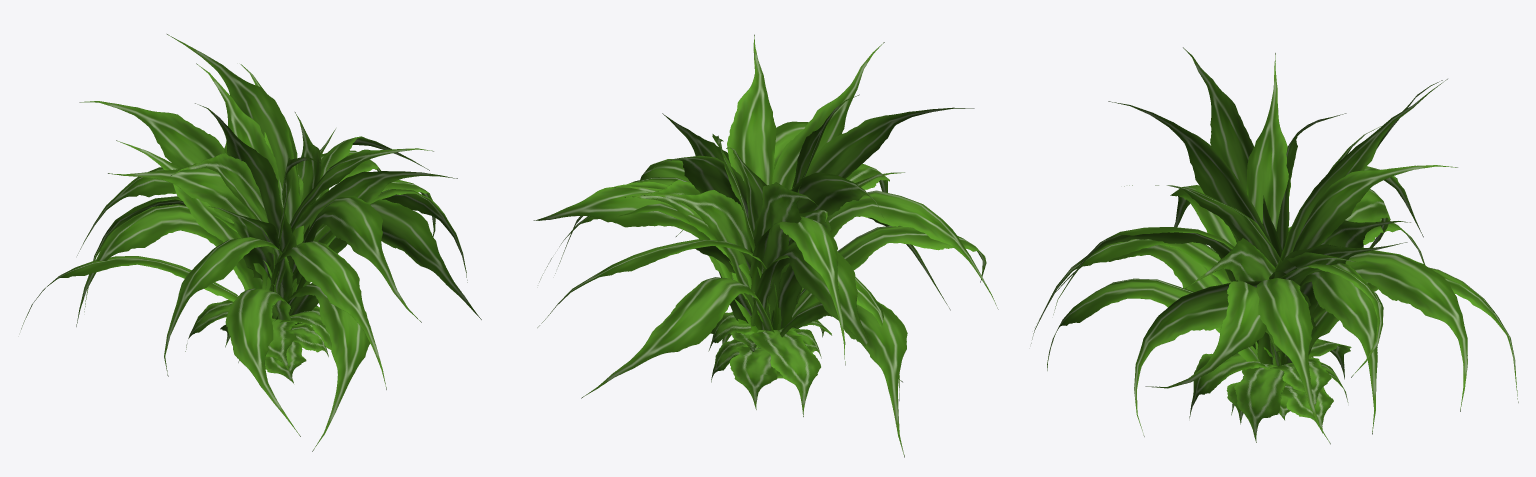
Rendered from Dracena.dae.
The picture shows the model from 3 angles, left to right: view 1: azimuth 30°, elevation 25°; view 2: azimuth 150°, elevation 25°; view 3: azimuth 270°, elevation 25°; orthographic projection. The views are drawn at different scales.
Visible parts, largest first — view 1: plant_pmat7; view 2: plant_pmat7; view 3: plant_pmat7.
Boxes of the visible parts, <box> form: plant_pmat7: <box>21,34,481,451</box>; plant_pmat7: <box>533,34,998,457</box>; plant_pmat7: <box>1031,47,1518,444</box>.
Size of the model in its own units: 1.67 by 1.62 by 1.28.
3 materials, 3 textured.
